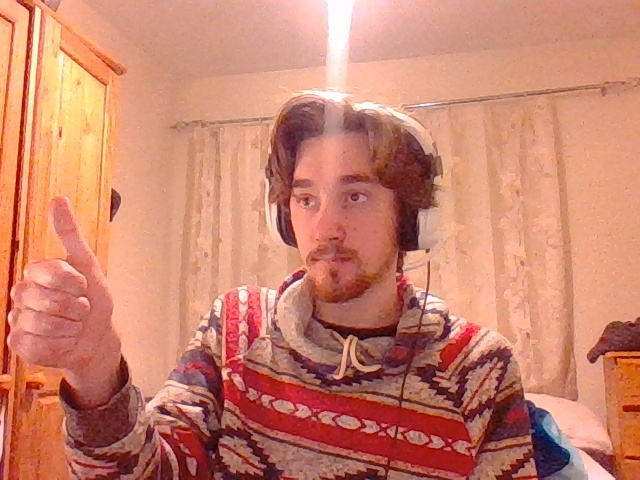good: (8, 197, 113, 366)
